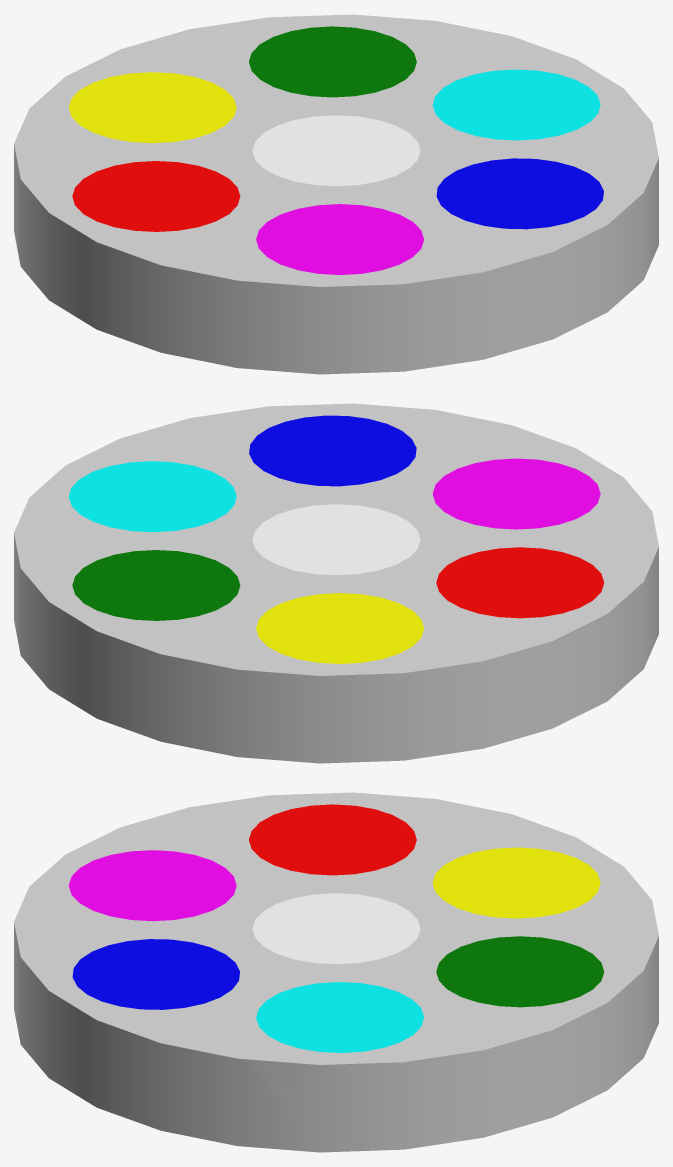
File: パック6色.dae
3 renders of one model, top to bottom at view 1: azimuth 30°, elevation 25°; view 2: azimuth 150°, elevation 25°; view 3: azimuth 270°, elevation 25°, orthographic.
Parts seen in each view (by area): view 1: SketchUp (×8); view 2: SketchUp (×8); view 3: SketchUp (×8).
Part boxes in pixels (x1=…): SketchUp (×8): x1=14, y1=14, x2=658, y2=374; SketchUp (×8): x1=14, y1=403, x2=658, y2=763; SketchUp (×8): x1=14, y1=792, x2=658, y2=1152.
Size of the model in its own units: 181 by 181 by 27.13.
